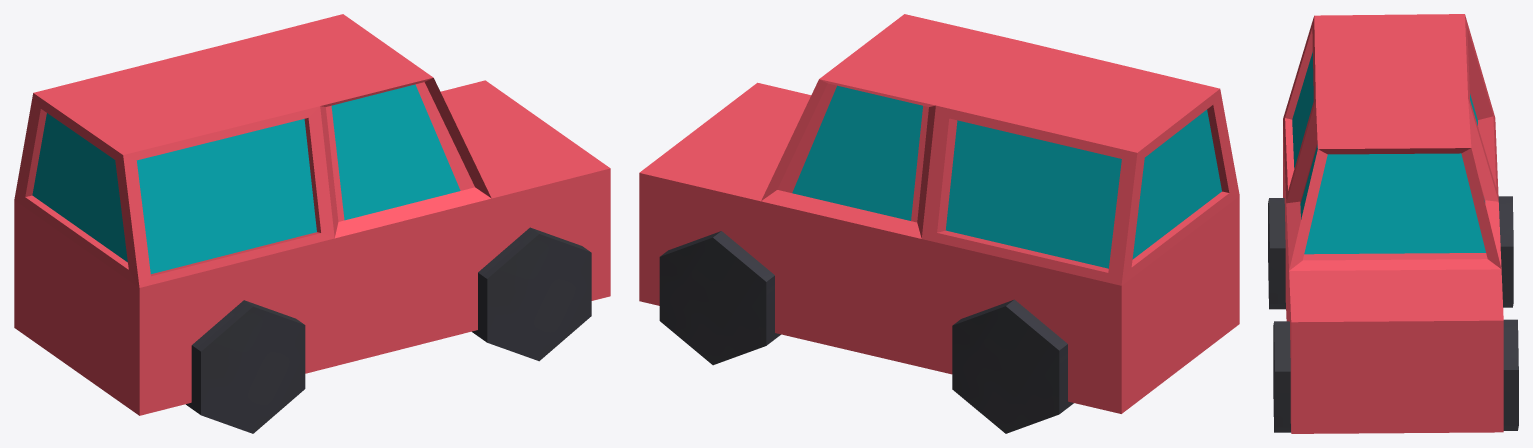
Rendered from Car4.fbx.
The picture shows the model from 3 angles, left to right: view 1: azimuth 30°, elevation 25°; view 2: azimuth 150°, elevation 25°; view 3: azimuth 270°, elevation 25°; orthographic projection. The views are drawn at different scales.
Visible parts, largest first — view 1: Cube.036; view 2: Cube.036; view 3: Cube.036.
Boxes of the visible parts, box(x1,y1,x2,y2) form: Cube.036: box(14, 14, 610, 433); Cube.036: box(639, 14, 1239, 433); Cube.036: box(1268, 14, 1518, 433).
Size of the model in its own units: 508 by 289 by 263.
